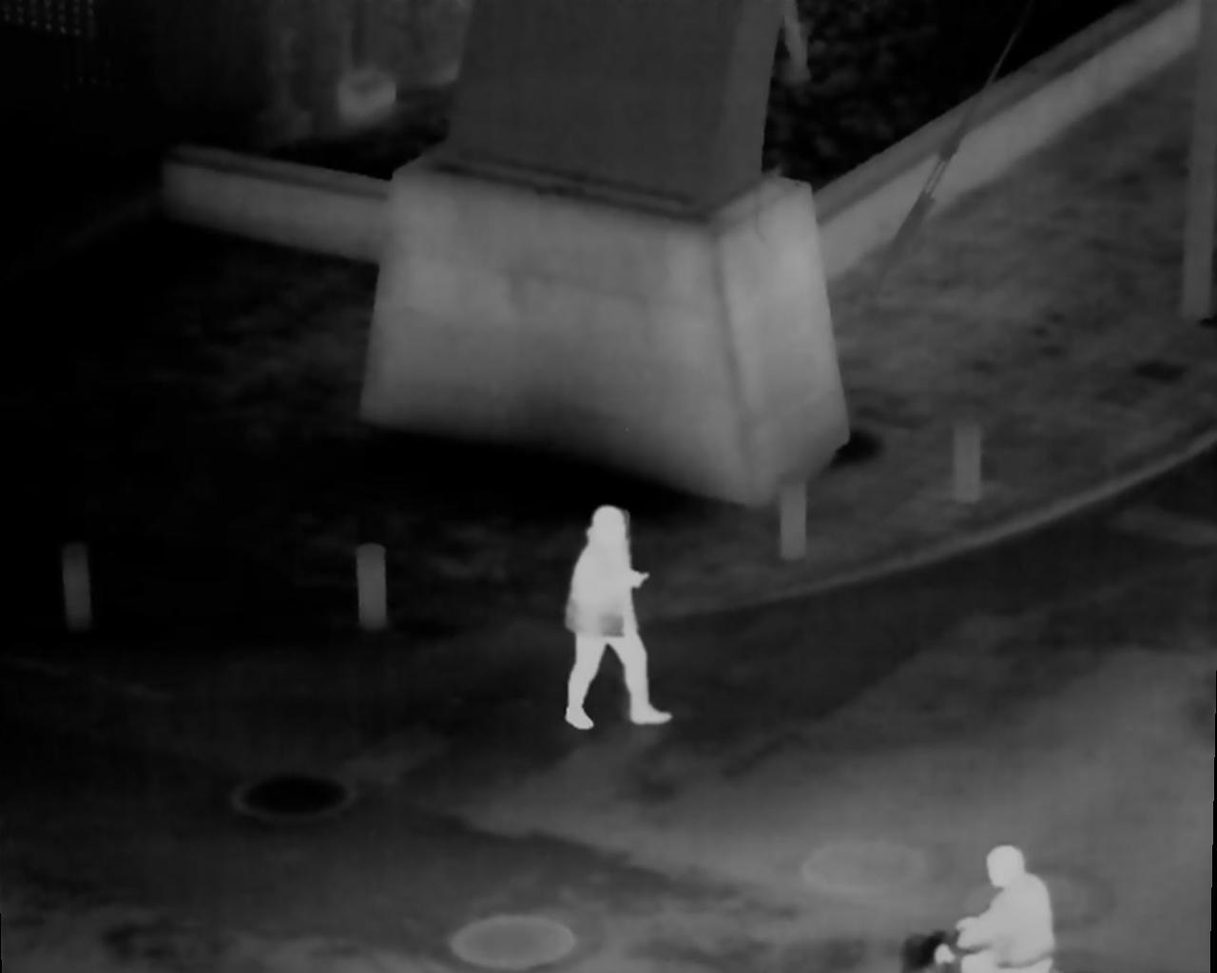person: (567, 506, 669, 731), (962, 844, 1057, 973)
